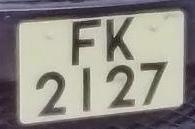1: (73, 62, 101, 116)
2: (28, 62, 74, 121), (99, 59, 142, 112)
7: (136, 59, 170, 111)
F: (59, 17, 108, 71)
K: (100, 14, 141, 65)
